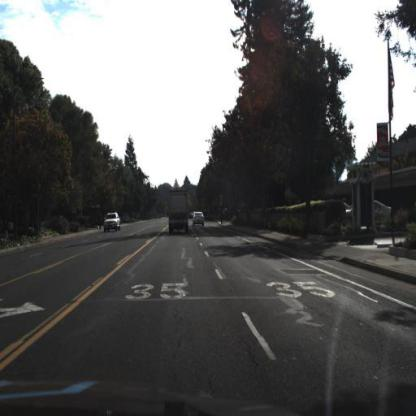car: (347, 197, 394, 225), (103, 212, 124, 235), (101, 211, 122, 233), (190, 208, 206, 228)
truck: (168, 188, 191, 236)
